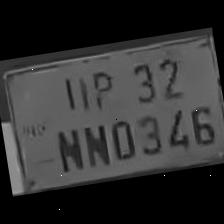0: (102, 113, 138, 163)
2: (152, 52, 186, 102)
3: (124, 56, 160, 106), (131, 107, 164, 158)
4: (160, 104, 190, 154)
6: (184, 99, 218, 149)
N: (50, 123, 84, 174), (76, 119, 110, 170)
P: (82, 62, 118, 113)
U: (53, 68, 85, 116)
